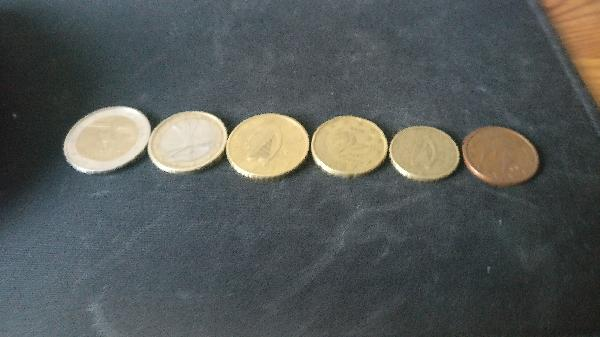Fifty Cent: (225, 113, 311, 181)
Five Cent: (459, 124, 543, 188)
One Euro: (148, 108, 227, 174)
Ten Cent: (389, 121, 460, 184)
Twenty Cent: (311, 114, 390, 177)
Two Euro: (64, 103, 151, 176)
